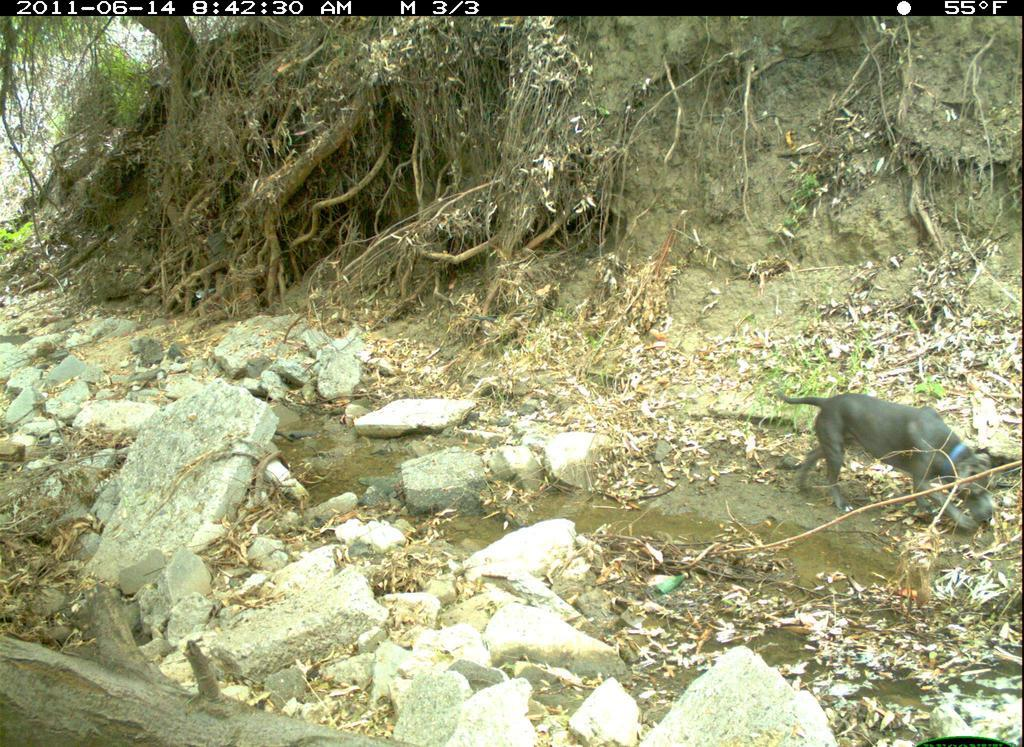dog: (754, 353, 999, 547)
